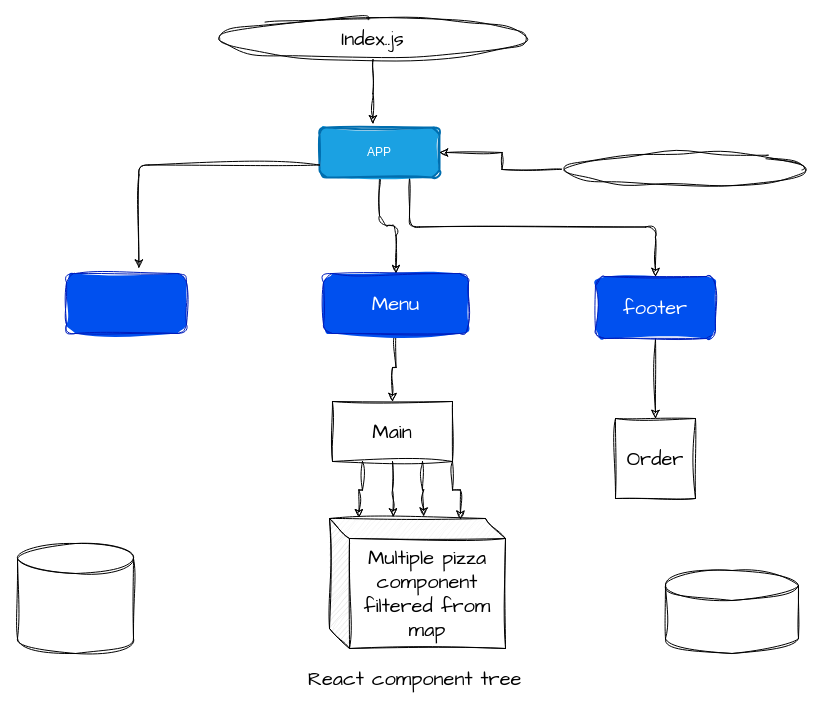
Some shapes in this 824 by 714 pixel diagram are drawn without their labels. The shapes that lost their labels are listed below. From the top down, each one's centre as x and y in pixels, then its label:
At pixel 685 169: "Data.js".
At pixel 126 303: "Header".
At pixel 75 598: "Public folder".
At pixel 731 612: "Package.json".
